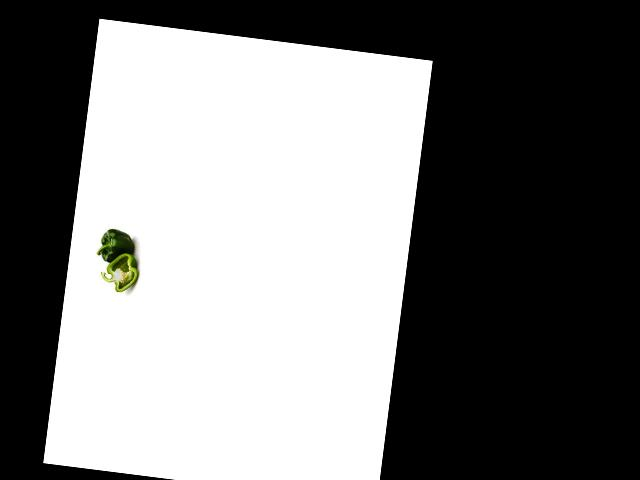bell_pepper: (97, 248, 139, 296)
